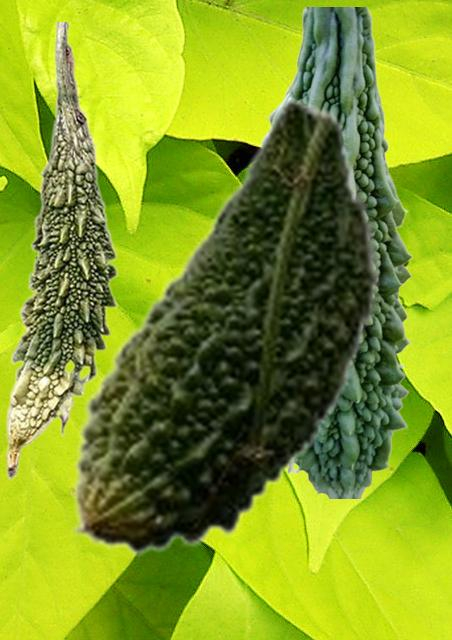ampalaya: (71, 97, 381, 555), (268, 7, 412, 497), (5, 22, 118, 480)
